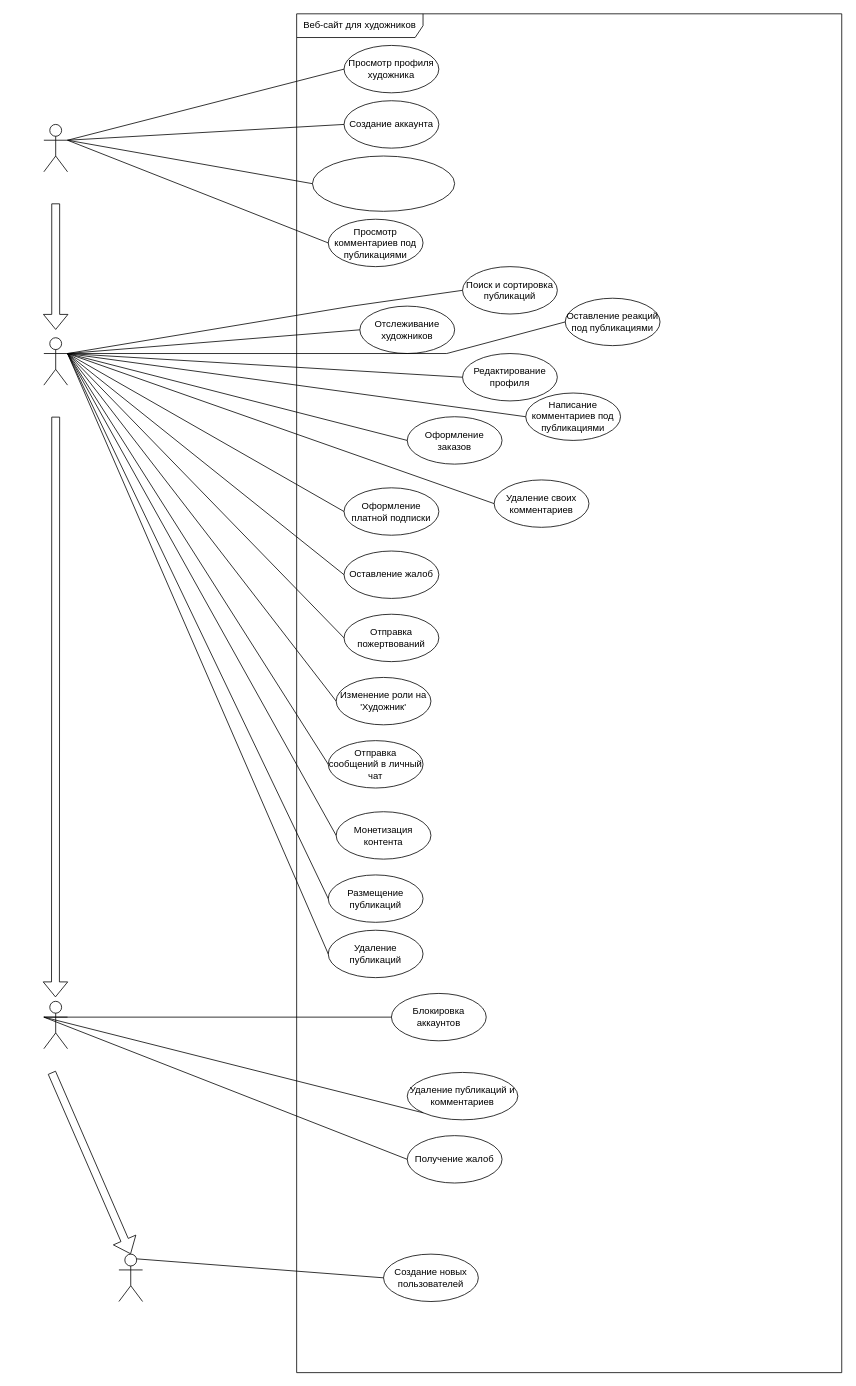
Some shapes in this 856 by 1386 pixel diagram are drawn without their labels. The centre of each missing label's shape, as x and y in pixels:
"Авторизованный пользователь" goes at (55,361).
"Администратор" goes at (130,1277).
"Модератор" goes at (55,1025).
"Неавторизованный пользователь" goes at (55,148).
"Просмотр публикаций в категории 'Общественный доступ'" goes at (383,183).
